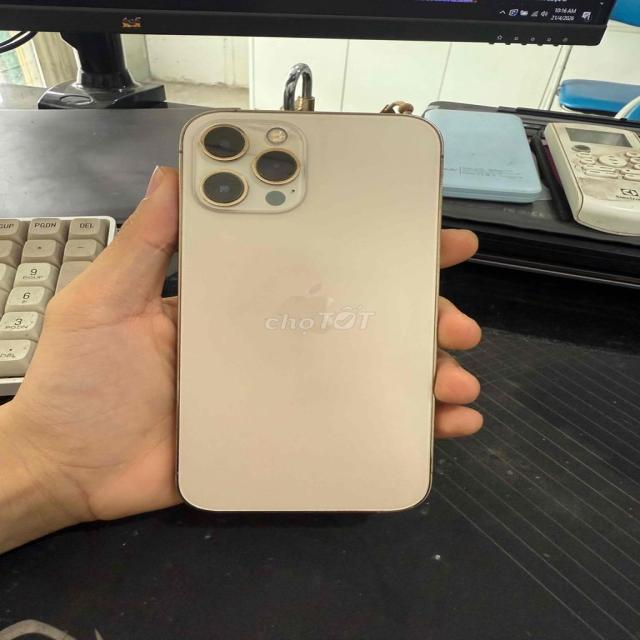gen_12_13: (173, 104, 451, 523)
